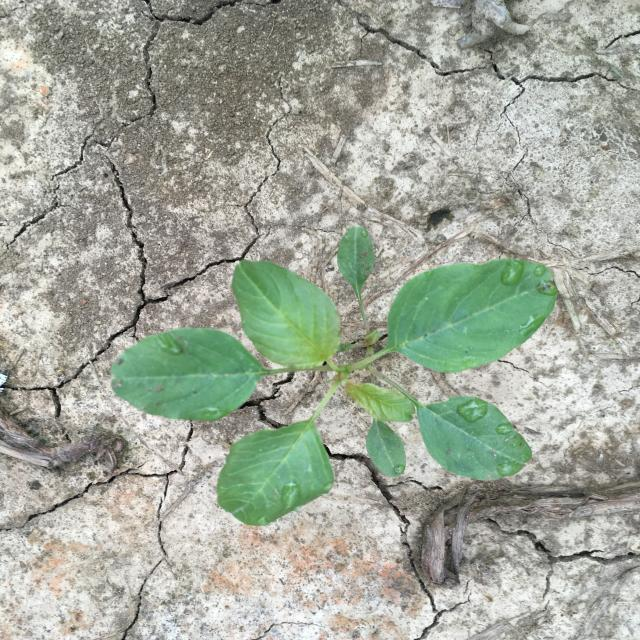PalmerAmaranth: (109, 226, 557, 527)
